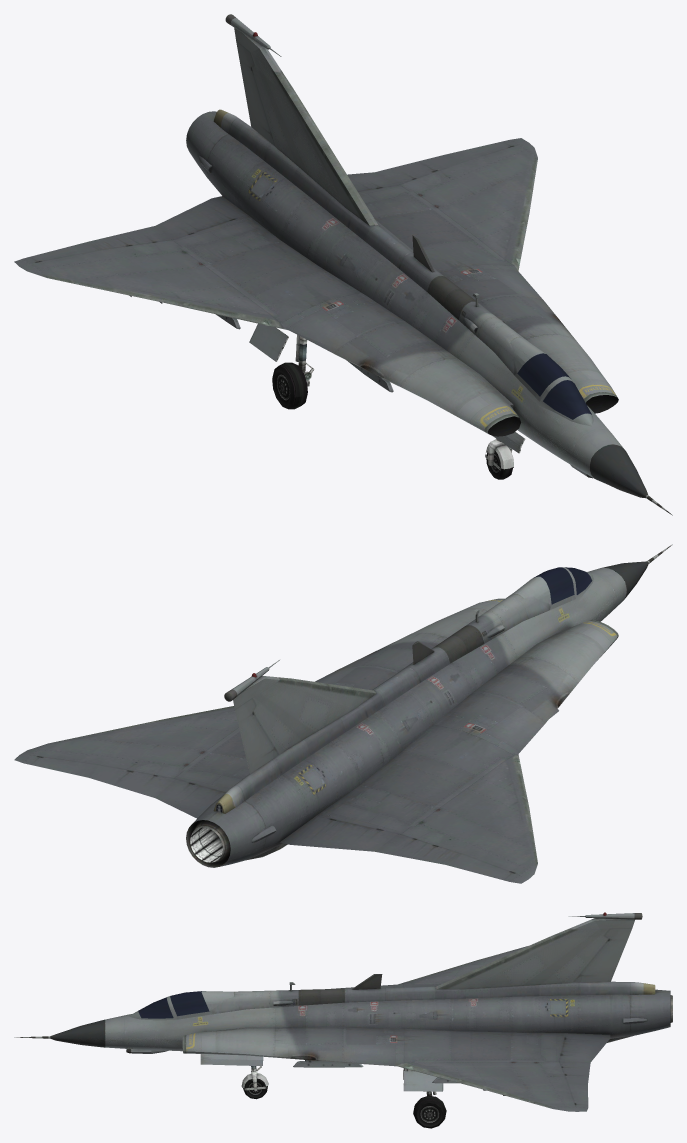
Rendered from saab-35-draken.glb.
3 renders of one model, top to bottom at view 1: azimuth 30°, elevation 25°; view 2: azimuth 150°, elevation 25°; view 3: azimuth 270°, elevation 25°, orthographic. The views are drawn at different scales.
Parts seen in each view (by area): view 1: Object_2; view 2: Object_2; view 3: Object_2.
Part boxes in pixels (bbox=[...]): Object_2: bbox=[14, 14, 672, 515]; Object_2: bbox=[14, 544, 672, 883]; Object_2: bbox=[14, 912, 672, 1128].
Size of the model in its own units: 376 by 186 by 595.
Materials: 1 (1 with a texture image).
